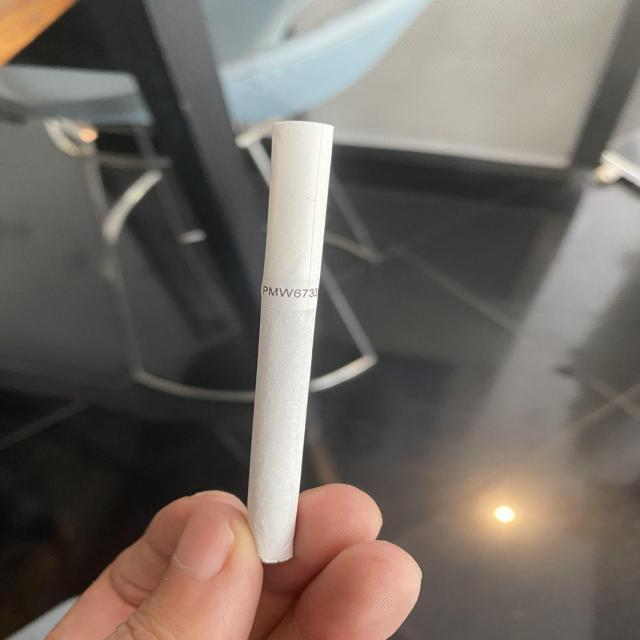rokok: (243, 109, 341, 565)
